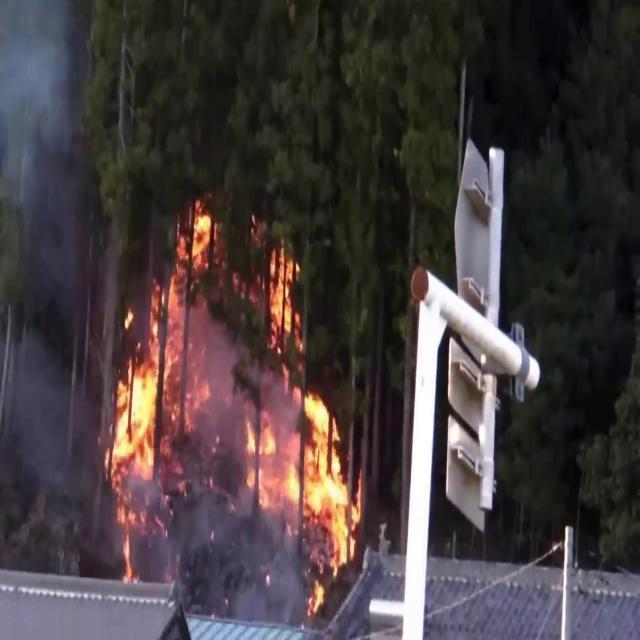Fire: (243, 236, 361, 592), (99, 264, 190, 590)
Smoke: (0, 1, 108, 353), (10, 326, 114, 530)
